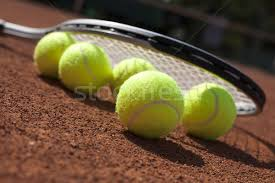tennis_ball: (116, 71, 184, 139), (182, 83, 237, 141), (57, 41, 111, 93), (112, 57, 158, 103), (34, 30, 76, 80)
